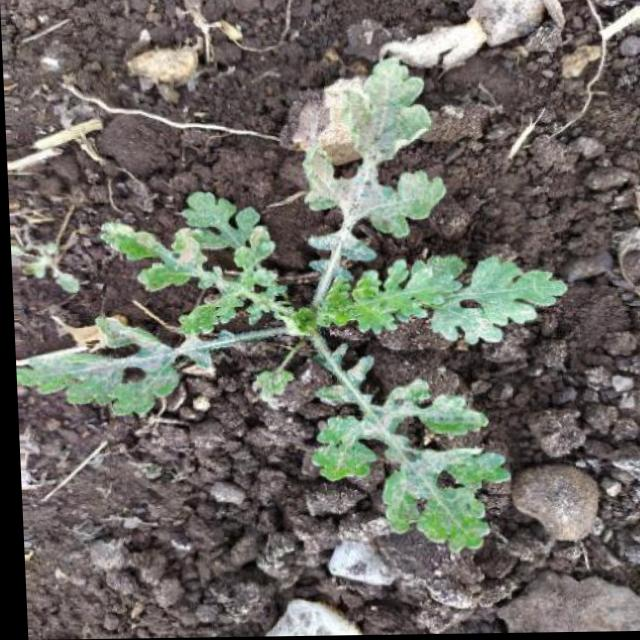weed: (18, 70, 572, 561)
